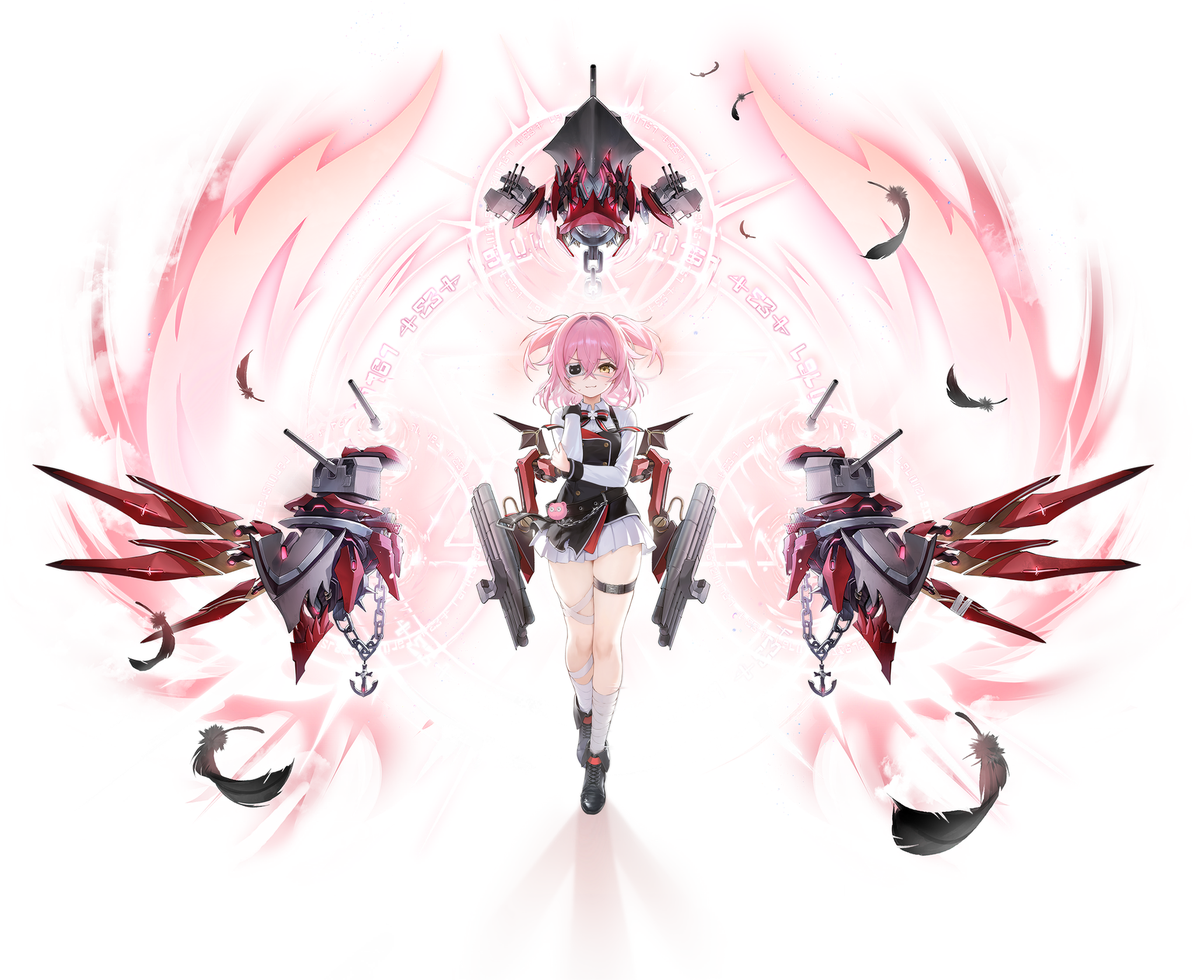person: (453, 278, 729, 820)
